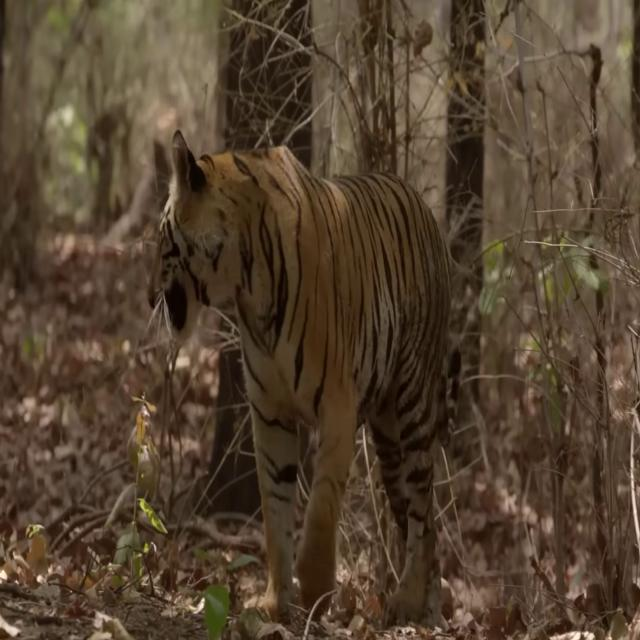tiger: (148, 127, 464, 626)
